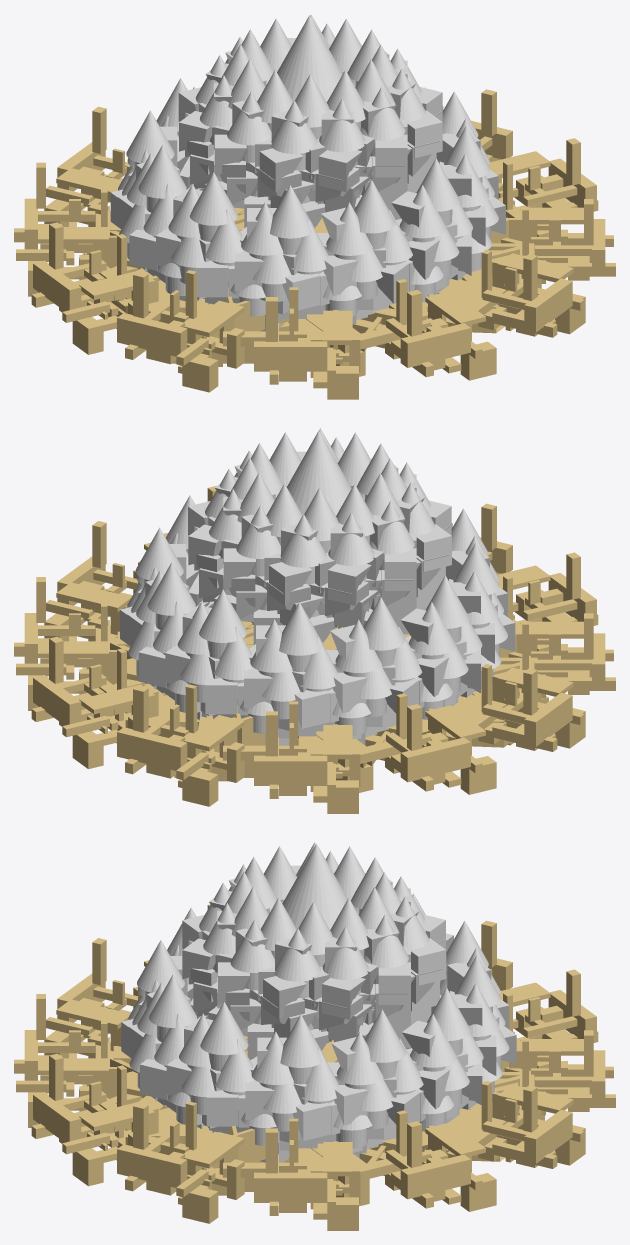
The model's file is 空中都市.fbx.
The picture shows the model from 3 angles, top to bottom: view 1: azimuth 30°, elevation 25°; view 2: azimuth 150°, elevation 25°; view 3: azimuth 270°, elevation 25°; orthographic projection.
Visible parts, largest first — view 1: 都市, 空中都市 地盤; view 2: 都市, 空中都市 地盤; view 3: 都市, 空中都市 地盤.
Part boxes in pixels (x1,y1,x2,y2): 都市: (110,14,505,331); 空中都市 地盤: (14,89,615,399); 都市: (120,428,515,745); 空中都市 地盤: (14,485,615,813); 都市: (121,842,516,1162); 空中都市 地盤: (14,904,615,1230).
Size of the model in its own units: 7479 by 3854 by 7479.
